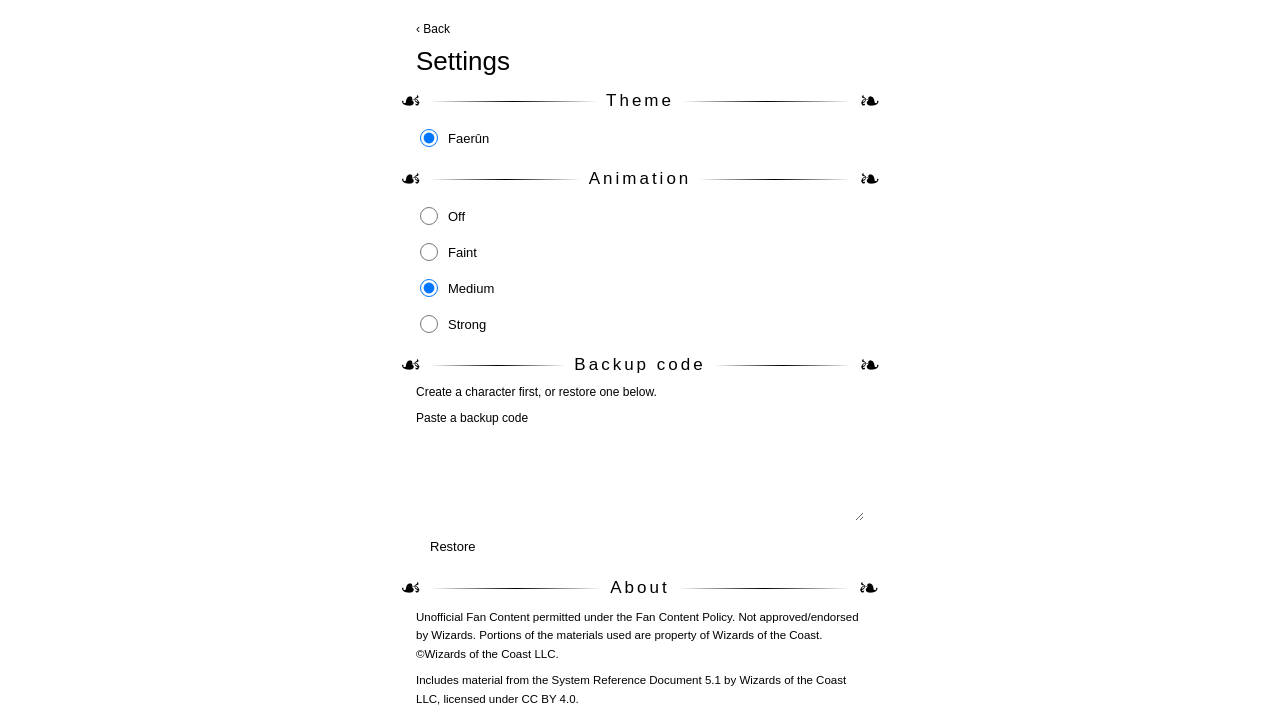
Test: backgrounds › choosing Off in Settings removes the background at once, Medium brings it back
This screenshot has width=1280, height=720.
Click the radio button labelled "Off".
click(429, 216)  # box [420, 207, 438, 225]
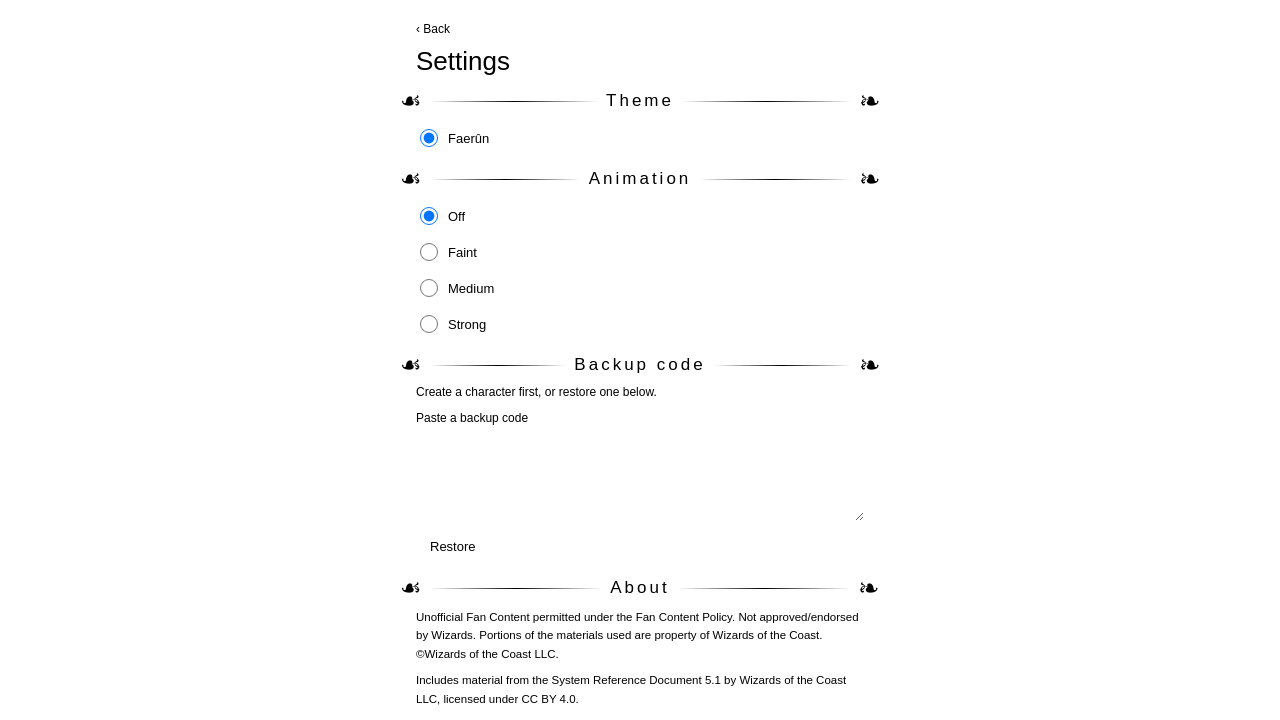
expect the icon with class "fx-bg" is gone: met
Click the radio button labelled "Medium".
click(429, 288)  # box [420, 279, 438, 297]
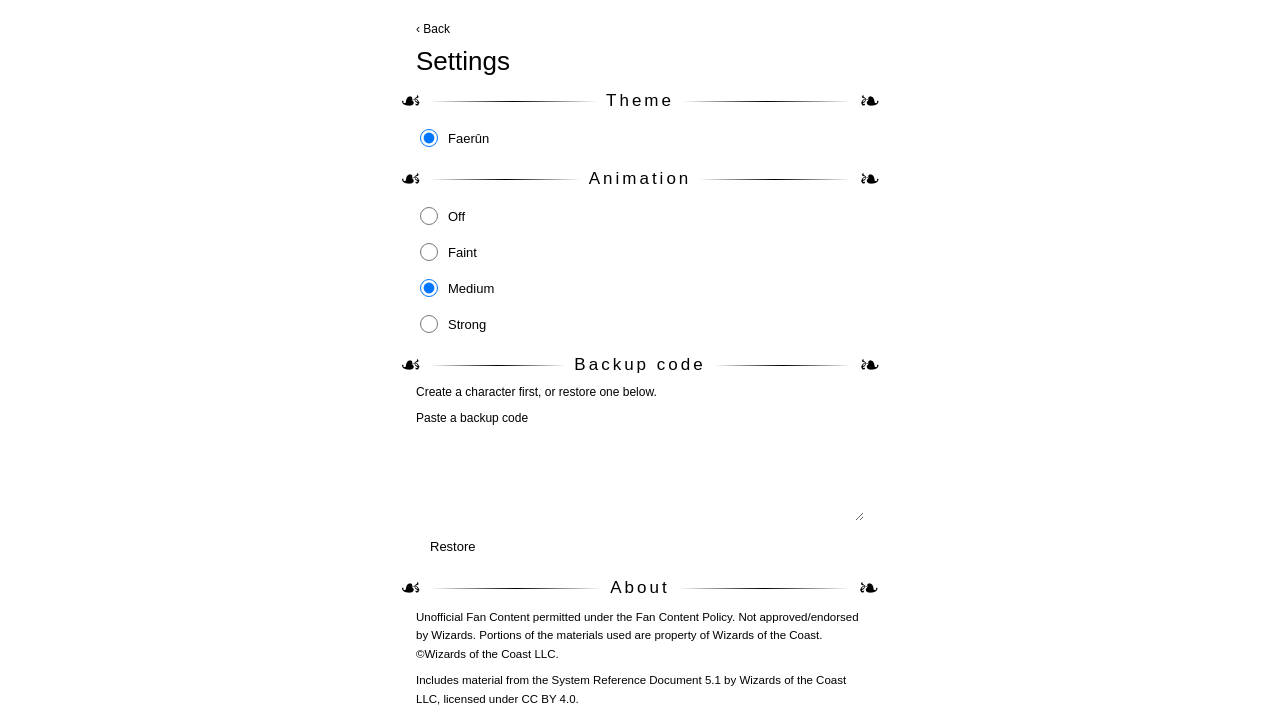
expect the icon with class "fx-bg" is shown: met
